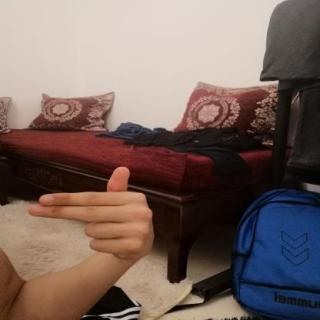GHAYN: (18, 164, 164, 266)
